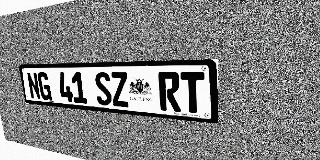1: (70, 72, 87, 104)
4: (57, 72, 74, 103)
G: (37, 72, 52, 101)
N: (26, 72, 41, 100)
R: (158, 72, 181, 112)
S: (94, 72, 113, 106)
T: (180, 72, 205, 114)
Z: (110, 72, 130, 107)
